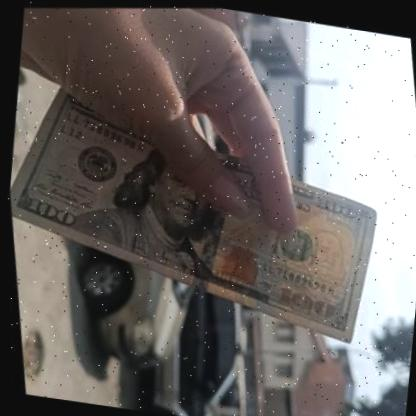one_hundred-front: (1, 35, 416, 398)
